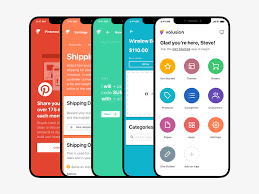iphone10: (152, 12, 232, 178)
